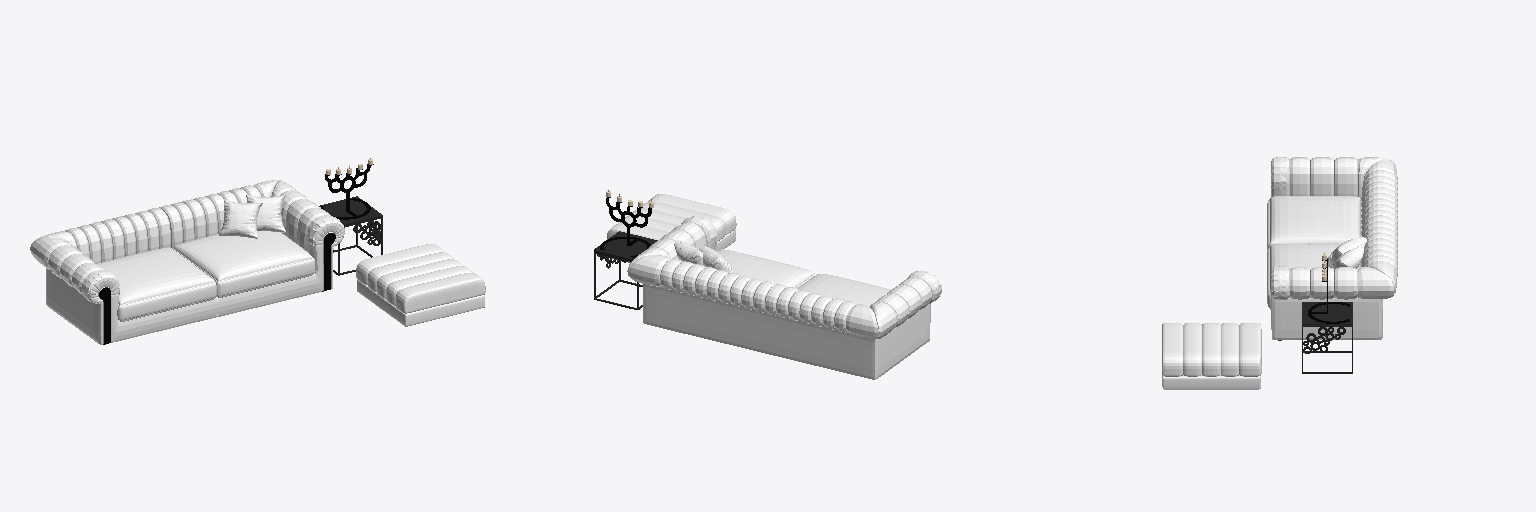
3 views of the same model, side by side, from view 1: azimuth 30°, elevation 25°; view 2: azimuth 150°, elevation 25°; view 3: azimuth 270°, elevation 25° (orthographic).
Visible parts, largest first — view 1: _buliao_jia, Rectangle01, Box03, Box04, Box05, Rectangle79, Rectangle07, _heitie_jia, Rectangle04; view 2: _buliao_jia, Rectangle01, Box03, Box04, Rectangle04; view 3: _buliao_jia, Rectangle01, Box04, Box03, Box05, Rectangle04.
Boxes of the visible parts, <box> form: _buliao_jia: <box>30,180,344,344</box>; Rectangle01: <box>333,244,485,313</box>; Box03: <box>173,231,314,297</box>; Box04: <box>98,247,216,321</box>; Box05: <box>357,279,484,326</box>; Rectangle79: <box>219,199,262,238</box>; Rectangle07: <box>246,195,286,232</box>; _heitie_jia: <box>99,233,335,344</box>; Rectangle04: <box>319,196,382,225</box>; _buliao_jia: <box>627,216,941,379</box>; Rectangle01: <box>594,194,736,309</box>; Box03: <box>717,249,815,288</box>; Box04: <box>797,274,890,306</box>; Rectangle04: <box>594,231,657,260</box>; _buliao_jia: <box>1271,157,1397,339</box>; Rectangle01: <box>1162,323,1352,376</box>; Box04: <box>1267,196,1361,251</box>; Box03: <box>1267,243,1360,309</box>; Box05: <box>1162,375,1260,389</box>; Rectangle04: <box>1302,302,1352,324</box>.
Size of the model in its own units: 3744 by 1057 by 2236.